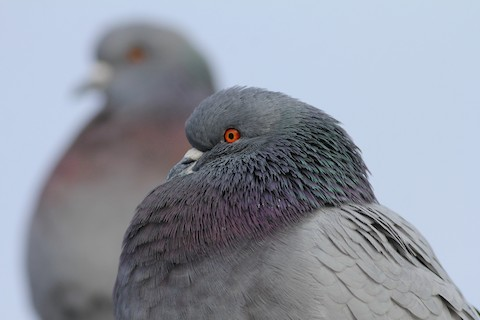pigeon: (106, 75, 468, 307), (22, 17, 260, 314)
